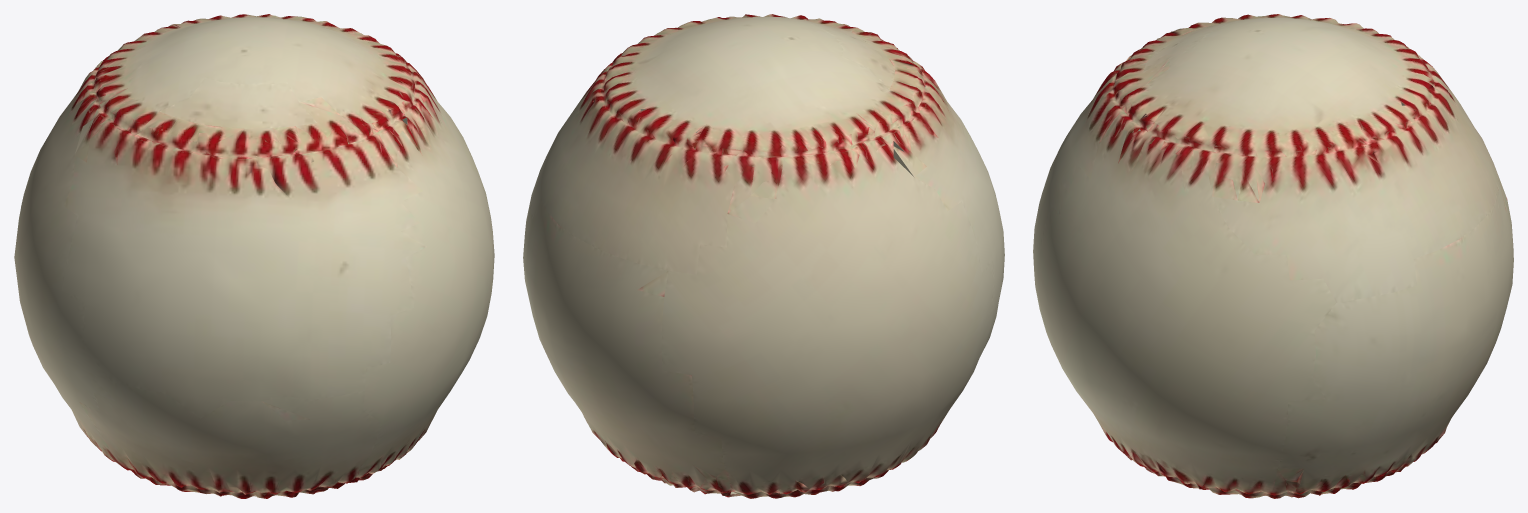
File: ball.glb
3 views of the same model, side by side, from view 1: azimuth 30°, elevation 25°; view 2: azimuth 150°, elevation 25°; view 3: azimuth 270°, elevation 25° (orthographic).
Visible parts, largest first — view 1: midway-fit; view 2: midway-fit; view 3: midway-fit.
Part boxes in pixels (x1,y1,x2,y2): midway-fit: (14,14,494,498); midway-fit: (523,14,1004,498); midway-fit: (1033,14,1513,498).
Bounding box in the file's own units: 0.9979 × 0.9995 × 1.
Materials: 1 (1 with a texture image).
